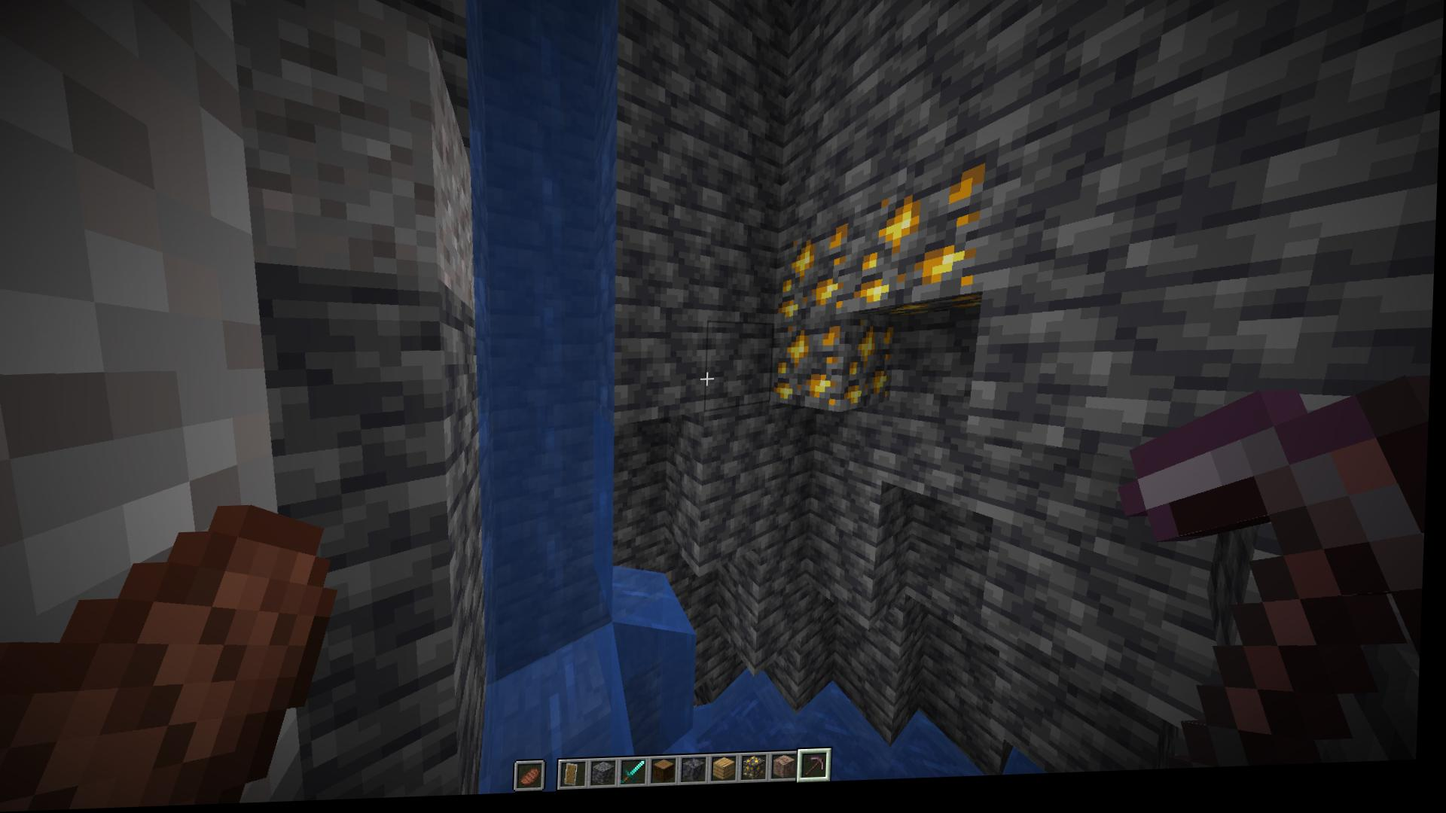gold ore: (865, 172, 987, 305), (780, 235, 855, 322), (776, 325, 847, 415), (847, 322, 900, 412)
